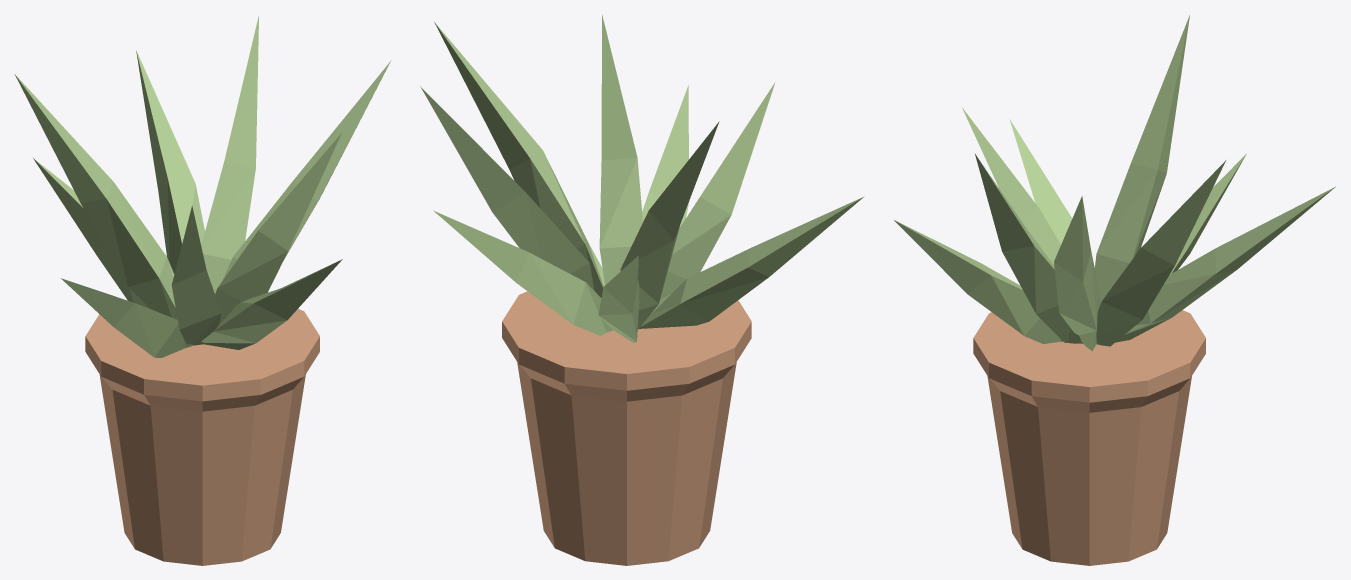
File: lab_potted_plant.glb
The picture shows the model from 3 angles, left to right: view 1: azimuth 30°, elevation 25°; view 2: azimuth 150°, elevation 25°; view 3: azimuth 270°, elevation 25°; orthographic projection. The views are drawn at different scales.
Visible parts, largest first — view 1: lab_potted_plant; view 2: lab_potted_plant; view 3: lab_potted_plant.
Boxes of the visible parts, x1,y1,x2,y2 form: lab_potted_plant: (14,15,391,565); lab_potted_plant: (420,14,864,565); lab_potted_plant: (894,15,1335,565).
Bounding box in the file's own units: 0.979 × 1.16 × 1.03.
